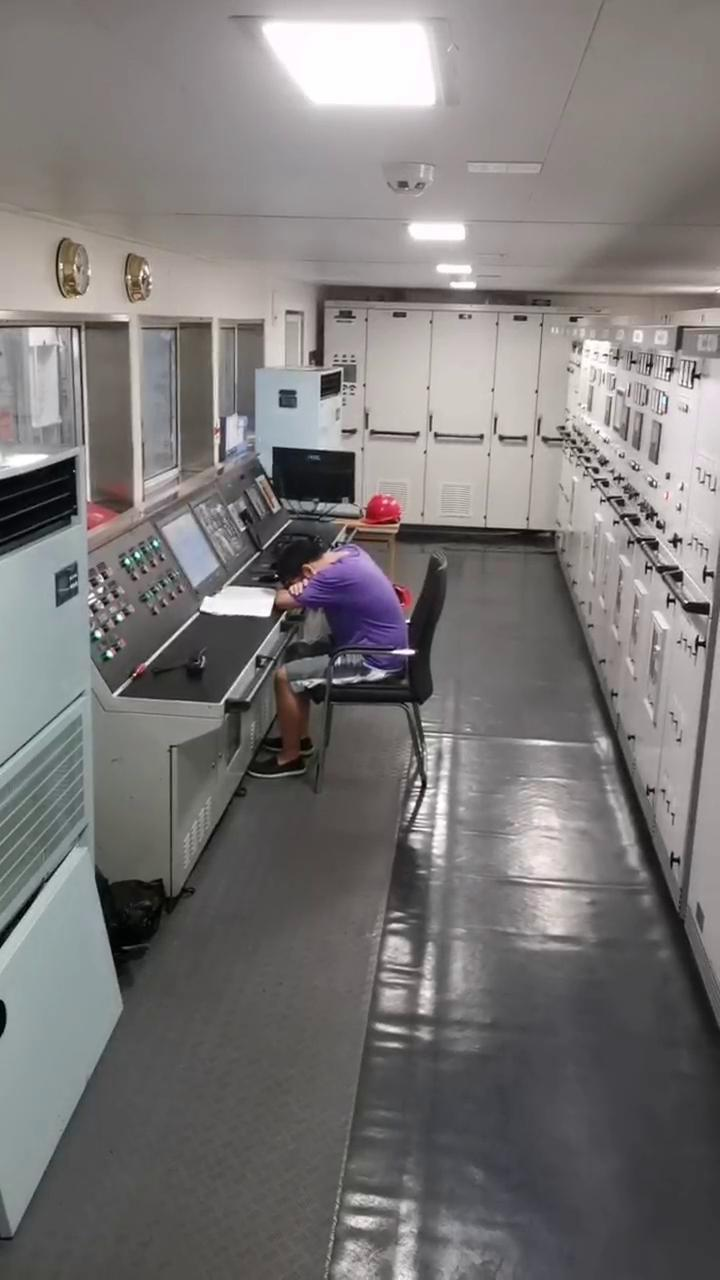sleep: (266, 544, 409, 692)
